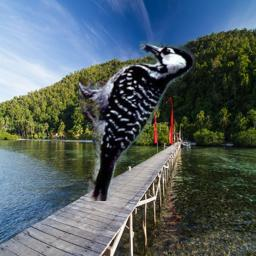Woodpecker: (79, 40, 195, 201)
